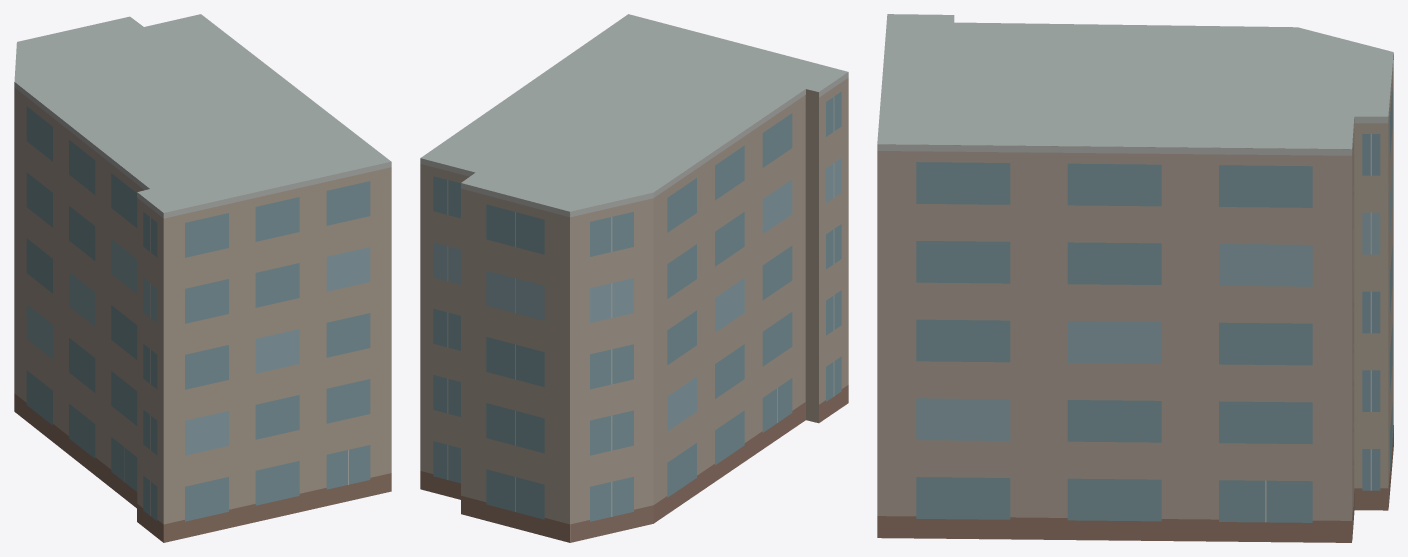
Rendered from survey-upis-32989271.glb.
3 renders of one model, left to right at view 1: azimuth 30°, elevation 25°; view 2: azimuth 150°, elevation 25°; view 3: azimuth 270°, elevation 25°, orthographic. The views are drawn at different scales.
Parts seen in each view (by area): view 1: survey-upis-32989271.tmp; view 2: survey-upis-32989271.tmp; view 3: survey-upis-32989271.tmp.
Boxes of the visible parts, x1,y1,x2,y2 form: survey-upis-32989271.tmp: (14,14,391,542); survey-upis-32989271.tmp: (420,14,848,542); survey-upis-32989271.tmp: (877,14,1393,542).
Bounding box in the file's own units: 10.65 × 14.45 × 17.19.
